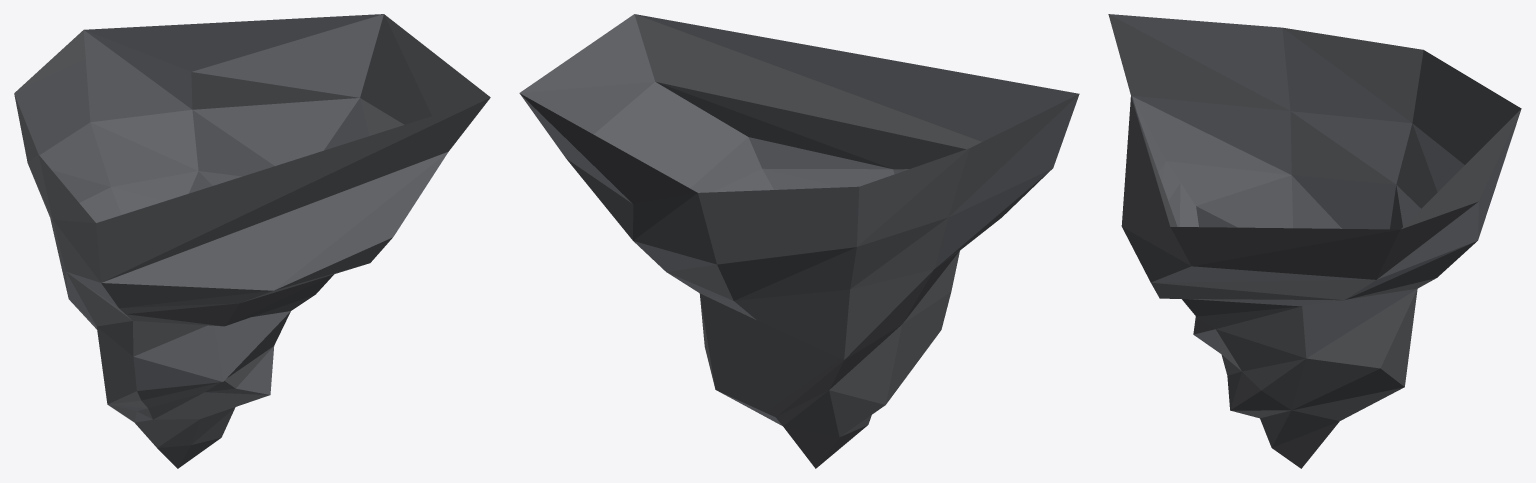
Rendered from sp_mountain02.glb.
3 views of the same model, side by side, from view 1: azimuth 30°, elevation 25°; view 2: azimuth 150°, elevation 25°; view 3: azimuth 270°, elevation 25° (orthographic). The views are drawn at different scales.
Visible parts, largest first — view 1: SP_Mountain02; view 2: SP_Mountain02; view 3: SP_Mountain02.
Boxes of the visible parts, box(x1,y1,x2,y2) form: SP_Mountain02: box(14, 14, 490, 468); SP_Mountain02: box(519, 14, 1079, 468); SP_Mountain02: box(1108, 14, 1521, 468).
Bounding box in the file's own units: 481 × 382 × 390.
1 material, 1 textured.
